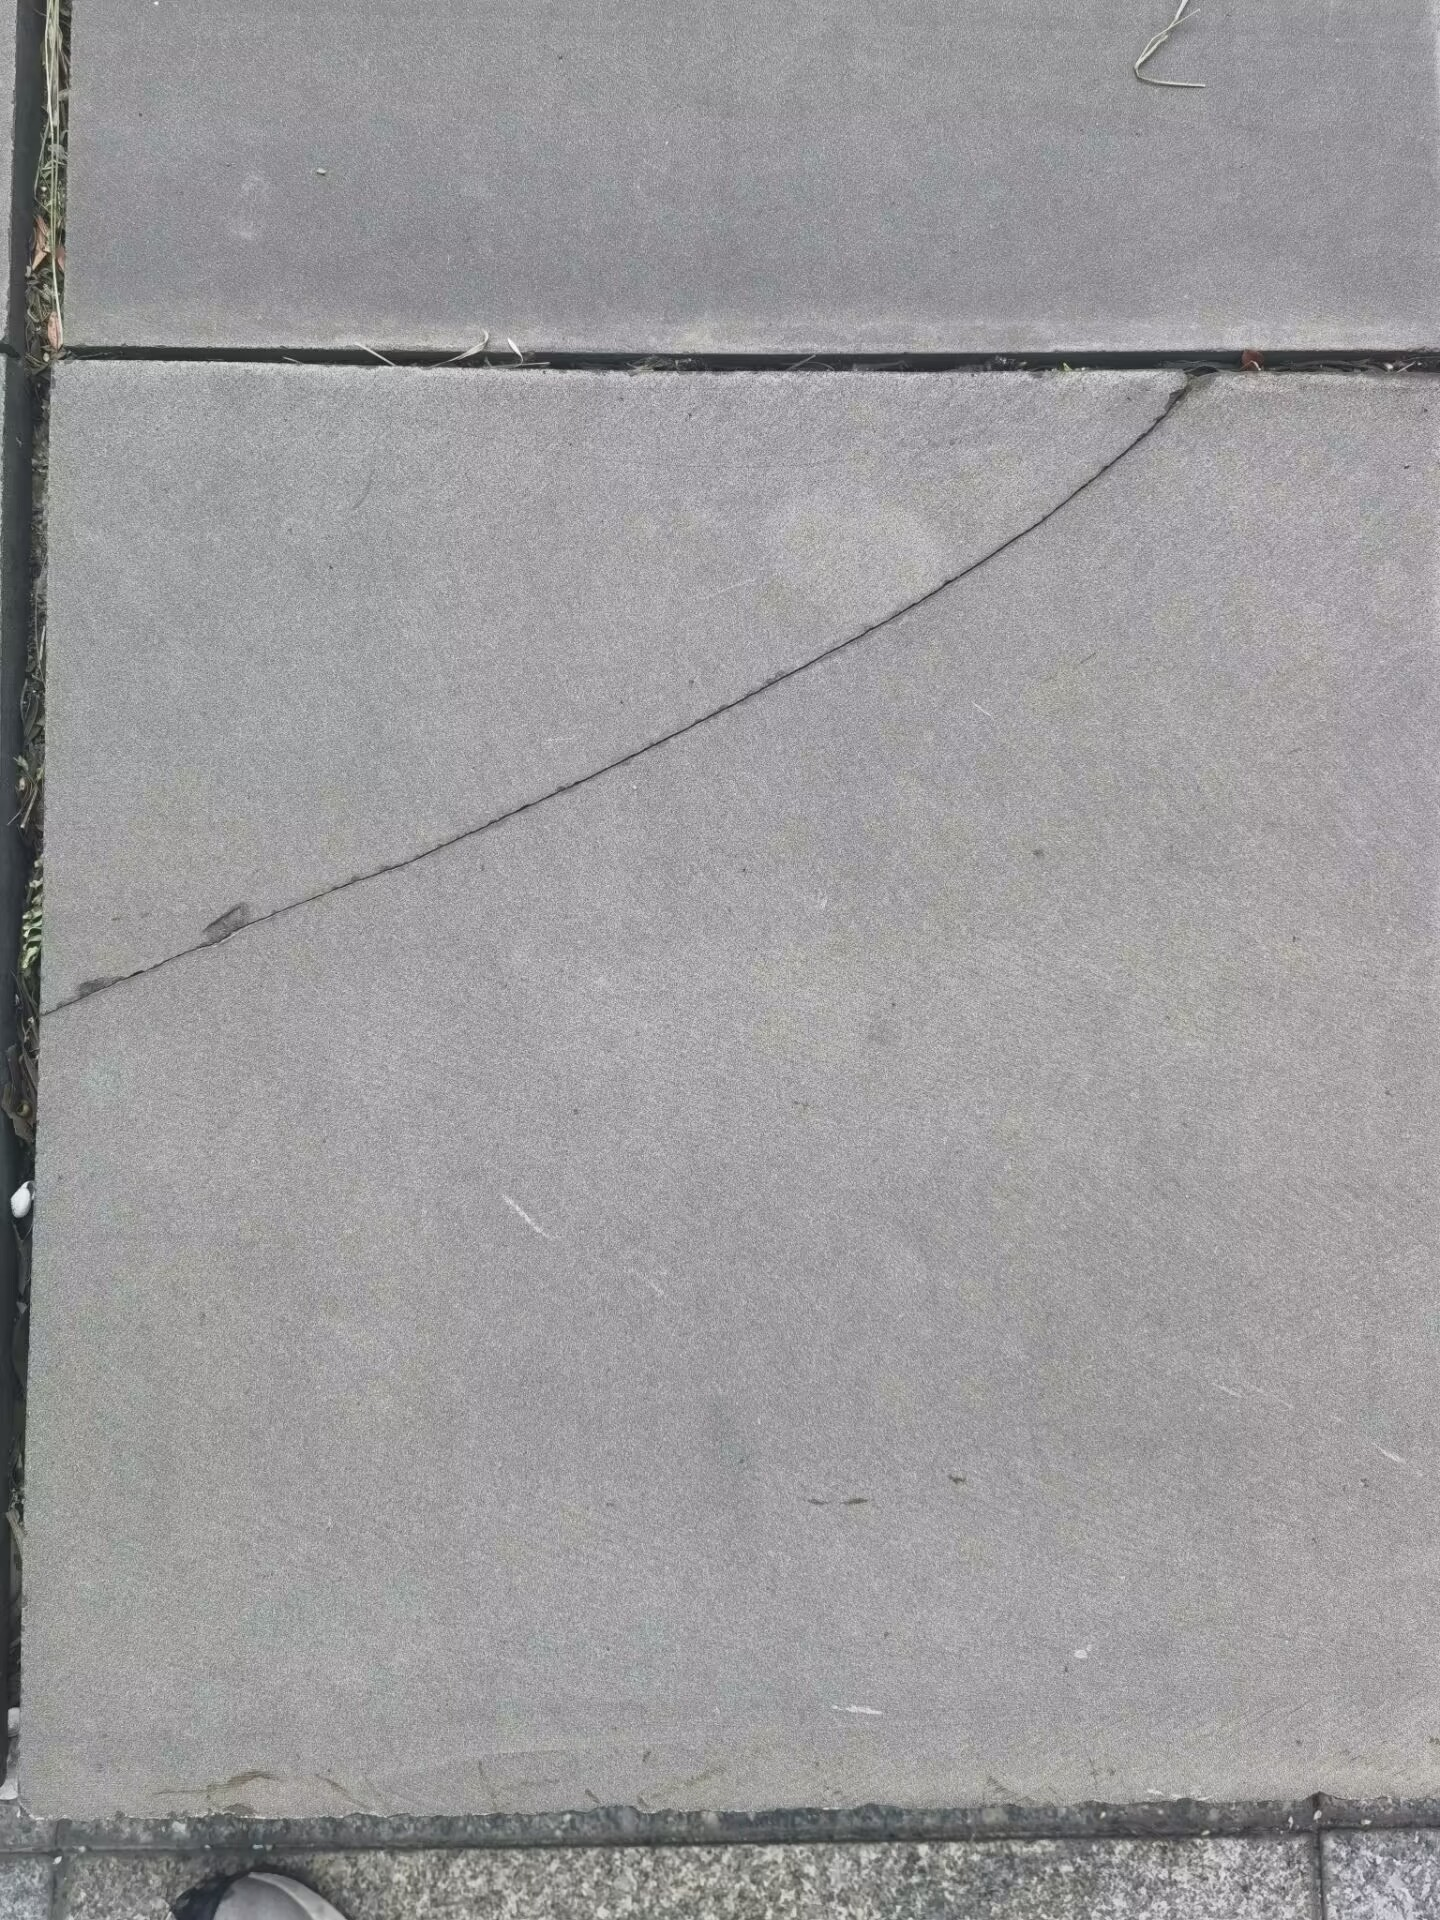TILE: (38, 353, 1236, 1036)
